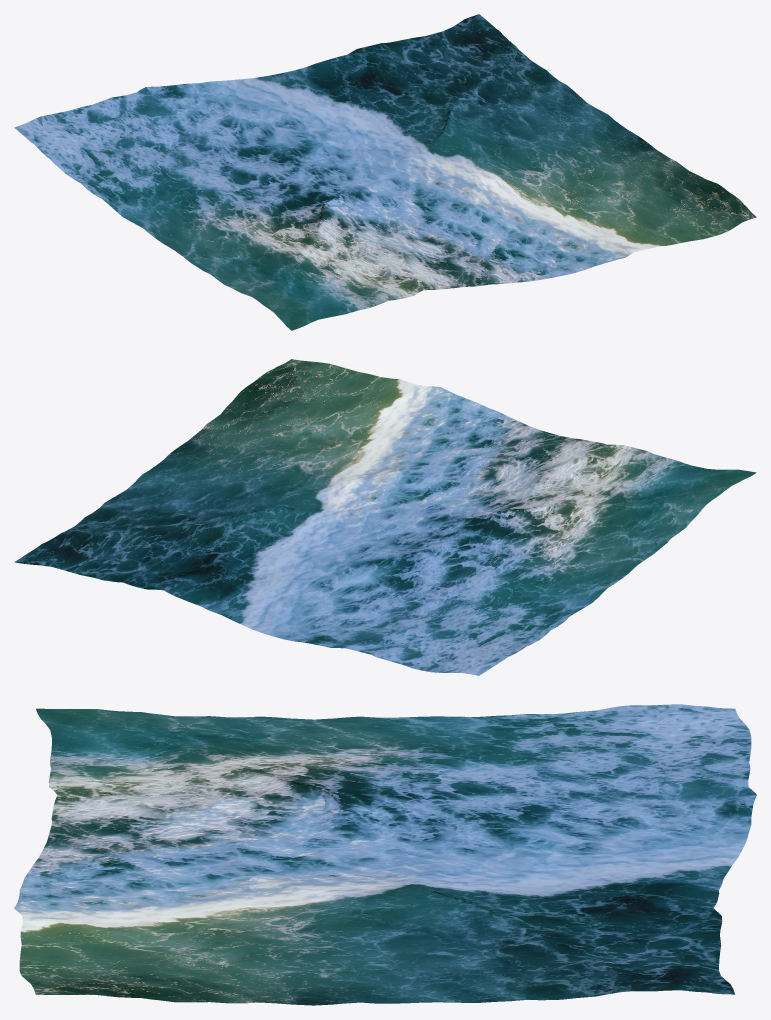
Rendered from ocean.obj.
3 renders of one model, top to bottom at view 1: azimuth 30°, elevation 25°; view 2: azimuth 150°, elevation 25°; view 3: azimuth 270°, elevation 25°, orthographic. The views are drawn at different scales.
Visible parts, largest first — view 1: Water_Wave; view 2: Water_Wave; view 3: Water_Wave.
Part boxes in pixels (bbox=[...]): Water_Wave: bbox=[14, 14, 756, 330]; Water_Wave: bbox=[14, 359, 756, 675]; Water_Wave: bbox=[14, 704, 756, 1005].
Size of the model in its own units: 41.2 by 1.36 by 44.12.
1 material, 1 textured.
